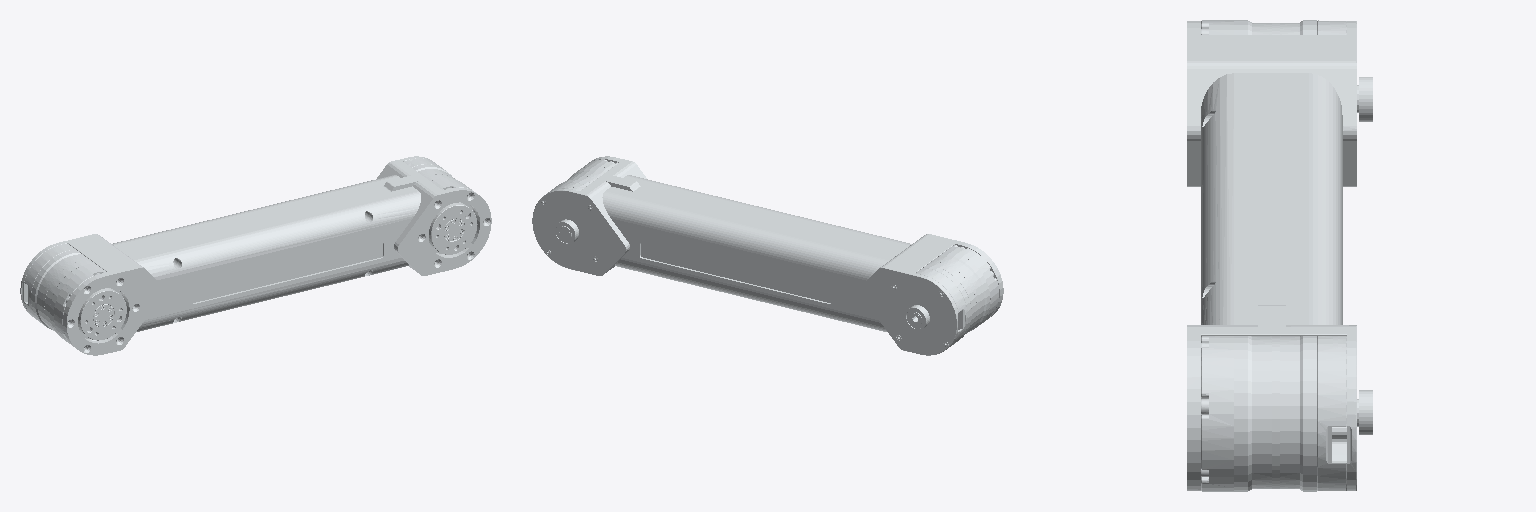
The robot description file, URDF, robot "arx5_pick_place":
<?xml version="1.0" encoding="utf-8" ?>
<!-- This URDF was automatically created by SolidWorks to URDF Exporter! Originally created by [author] ([email redacted]) 
     Commit Version: 1.6.0-4-g7f85cfe  Build Version: 1.6.7995.38578
     For more information, please see http://wiki.ros.org/sw_urdf_exporter -->
<robot name="arx5_pick_place">
    <link name="base_link">
        <visual>
            <origin xyz="0 0 0" rpy="0 0 0" />
            <geometry>
                <mesh filename="package://arx5_pick_place/meshes/base_link.STL" />
            </geometry>
            <material name="">
                <color rgba="0.752941176470588 0.752941176470588 0.752941176470588 1" />
            </material>
        </visual>
        <collision>
            <origin xyz="0 0 0" rpy="0 0 0" />
            <geometry>
                <mesh filename="package://arx5_pick_place/meshes/base_link.STL" />
            </geometry>
        </collision>
        <inertial>
            <mass value="0.1" />
            <origin xyz="0 0 0" rpy="0 0 0" />
            <inertia ixx="0.03" iyy="0.03" izz="0.03" ixy="0.0" ixz="0.0" iyz="0.0" />
        </inertial>
    </link>
    <link name="base_inertia">
        <inertial>
            <origin xyz="0 0 0" rpy="0 0 0" />
            <mass value="0.17674882311599" />
            <inertia ixx="0.000103493999037482" ixy="-1.97089585090558E-07" ixz="5.01898978490367E-07" iyy="0.000103921409006737" iyz="2.94265441271106E-07" izz="0.000140224573296344" />
        </inertial>
    </link>
    <joint name="base_link_to_base_inertia" type="fixed">
        <origin xyz="0 0 0" rpy="0 0 0" />
        <parent link="base_link" />
        <child link="base_inertia" />
        <axis xyz="0 0 0" />
    </joint>
    <link name="link1">
        <inertial>
            <origin xyz="-7.187557769489E-06 0.0165782059102838 0.00172294525616338" rpy="0 0 0" />
            <mass value="0.251301053902323" />
            <inertia ixx="7.91325386047488E-05" ixy="5.12404036084335E-09" ixz="-3.41650184041956E-07" iyy="8.23734501443829E-05" iyz="-4.40820601473179E-06" izz="0.000135414547513094" />
        </inertial>
        <visual>
            <origin xyz="0 0 0" rpy="0 0 0" />
            <geometry>
                <mesh filename="package://arx5_pick_place/meshes/link1.STL" />
            </geometry>
            <material name="">
                <color rgba="0.898039215686275 0.917647058823529 0.929411764705882 1" />
            </material>
        </visual>
        <collision>
            <origin xyz="0 0 0" rpy="0 0 0" />
            <geometry>
                <mesh filename="package://arx5_pick_place/meshes/link1.STL" />
            </geometry>
        </collision>
    </link>
    <joint name="base_link_to_link1" type="revolute">
        <origin xyz="0 0.0020536 0.054" rpy="-1.5708 0 -3.1416" />
        <parent link="base_link" />
        <child link="link1" />
        <axis xyz="0 -1 0" />
        <limit lower="-10" upper="10" effort="100" velocity="1000" />
    </joint>
    <link name="link2">
        <inertial>
            <origin xyz="0.142894605343193 0.000568905739434619 0.00106809841544814" rpy="0 0 0" />
            <mass value="0.662172012083227" />
            <inertia ixx="0.00027089986177013" ixy="2.74042029662869E-05" ixz="2.67904828281657E-05" iyy="0.00307772627892711" iyz="2.93390947157399E-07" izz="0.00330049972260227" />
        </inertial>
        <visual>
            <origin xyz="0 0 0" rpy="0 0 0" />
            <geometry>
                <mesh filename="package://arx5_pick_place/meshes/link2.STL" />
            </geometry>
            <material name="">
                <color rgba="0.898039215686275 0.917647058823529 0.929411764705882 1" />
            </material>
        </visual>
        <collision>
            <origin xyz="0 0 0" rpy="0 0 0" />
            <geometry>
                <mesh filename="package://arx5_pick_place/meshes/link2.STL" />
            </geometry>
        </collision>
    </link>
    <joint name="link1_to_link2" type="revolute">
        <origin xyz="0 0 0" rpy="0 0 0" />
        <parent link="link1" />
        <child link="link2" />
        <axis xyz="0 0 1" />
        <limit lower="-10" upper="10" effort="100" velocity="1000" />
    </joint>
    <link name="link3">
        <inertial>
            <origin xyz="0.128283038837322 -0.0676792167144319 0.040962206354862" rpy="0 0 0" />
            <mass value="0.695478239309123" />
            <inertia ixx="0.0011845491342804" ixy="0.000797605972627214" ixz="2.11213074961361E-05" iyy="0.00111653512068209" iyz="-2.1234775306484E-05" izz="0.00223079029360535" />
        </inertial>
        <visual>
            <origin xyz="0 0 0" rpy="0 0 0" />
            <geometry>
                <mesh filename="package://arx5_pick_place/meshes/link3.STL" />
            </geometry>
            <material name="">
                <color rgba="0.898039215686275 0.917647058823529 0.929411764705882 1" />
            </material>
        </visual>
        <collision>
            <origin xyz="0 0 0" rpy="0 0 0" />
            <geometry>
                <mesh filename="package://arx5_pick_place/meshes/link3.STL" />
            </geometry>
        </collision>
    </link>
    <joint name="link2_to_link3" type="revolute">
        <origin xyz="0.27 0 -0.038" rpy="0 0 -2.2689" />
        <parent link="link2" />
        <child link="link3" />
        <axis xyz="0 0 1" />
        <limit lower="-10" upper="10" effort="100" velocity="1000" />
    </joint>
    <link name="link4">
        <inertial>
            <origin xyz="0.0594442823037235 -0.00310931628776626 0.036094876039025" rpy="0 0 0" />
            <mass value="0.129904373613862" />
            <inertia ixx="5.4462106942221E-05" ixy="2.7006585885406E-06" ixz="7.6179363572429E-06" iyy="8.3361264921361E-05" iyz="-2.69872270472835E-06" izz="5.7035653800595E-05" />
        </inertial>
        <visual>
            <origin xyz="0 0 0" rpy="0 0 0" />
            <geometry>
                <mesh filename="package://arx5_pick_place/meshes/link4.STL" />
            </geometry>
            <material name="">
                <color rgba="0.752941176470588 0.752941176470588 0.752941176470588 1" />
            </material>
        </visual>
        <collision>
            <origin xyz="0 0 0" rpy="0 0 0" />
            <geometry>
                <mesh filename="package://arx5_pick_place/meshes/link4.STL" />
            </geometry>
        </collision>
    </link>
    <joint name="link3_to_link4" type="revolute">
        <origin xyz="0.21952 -0.16826 0.0095" rpy="0 0 -0.87266" />
        <parent link="link3" />
        <child link="link4" />
        <axis xyz="0 0 1" />
        <limit lower="-10" upper="10" effort="100" velocity="1000" />
    </joint>
    <link name="link5">
        <inertial>
            <origin xyz="0.061063404120499 -7.99707784818705E-05 0.0354635052951228" rpy="0 0 0" />
            <mass value="0.187798131620403" />
            <inertia ixx="0.000141743924412977" ixy="2.94250053826079E-07" ixz="-5.01887861559548E-07" iyy="0.000107049377452692" iyz="1.97065336145565E-07" izz="0.000108099510218241" />
        </inertial>
        <visual>
            <origin xyz="0 0 0" rpy="0 0 0" />
            <geometry>
                <mesh filename="package://arx5_pick_place/meshes/link5.STL" />
            </geometry>
            <material name="">
                <color rgba="0.898039215686275 0.917647058823529 0.929411764705882 1" />
            </material>
        </visual>
        <collision>
            <origin xyz="0 0 0" rpy="0 0 0" />
            <geometry>
                <mesh filename="package://arx5_pick_place/meshes/link5.STL" />
            </geometry>
        </collision>
    </link>
    <joint name="link4_to_link5" type="revolute">
        <origin xyz="0.067 0.0365 0.029554" rpy="1.5708 0 0" />
        <parent link="link4" />
        <child link="link5" />
        <axis xyz="0 0 1" />
        <limit lower="-10" upper="10" effort="100" velocity="1000" />
    </joint>
    <link name="gripper_link1">
        <inertial>
            <origin xyz="0.000329594196088357 0.0140901516497374 0.0466648779317439" rpy="0 0 0" />
            <mass value="0.220819041507617" />
            <inertia ixx="0.000126652588006773" ixy="1.4993273928707E-07" ixz="-1.87237836327654E-08" iyy="0.000194189457482434" iyz="2.63407391140089E-05" izz="0.000133550718655737" />
        </inertial>
        <visual>
            <origin xyz="0 0 0" rpy="0 0 0" />
            <geometry>
                <mesh filename="package://arx5_pick_place/meshes/Gripper.STL" />
            </geometry>
            <material name="">
                <color rgba="0.752941176470588 0.752941176470588 0.752941176470588 1" />
            </material>
        </visual>
        <collision>
            <origin xyz="0 0 0" rpy="0 0 0" />
            <geometry>
                <mesh filename="package://arx5_pick_place/meshes/Gripper.STL" />
            </geometry>
        </collision>
    </link>
    <joint name="link5_to_gripper_link1" type="revolute">
        <origin xyz="0.0914 0 0.0335" rpy="-1.5708 0 -1.5708" />
        <parent link="link5" />
        <child link="gripper_link1" />
        <axis xyz="0 0 1" />
        <limit lower="-10" upper="10" effort="100" velocity="1000" />
    </joint>
    <link name="gripper_link2">
        <inertial>
            <origin xyz="0.013772447524502 0.0112440277698627 -0.0214943948727623" rpy="0 0 0" />
            <mass value="0.076638980150099" />
            <inertia ixx="5.03825387542364E-05" ixy="3.75477881040601E-07" ixz="9.93180599781238E-07" iyy="0.000105633489777571" iyz="1.33064249411068E-06" izz="6.22728912797292E-05" />
        </inertial>
        <visual>
            <origin xyz="0 0 0" rpy="0 0 0" />
            <geometry>
                <mesh filename="package://arx5_pick_place/meshes/Gripper_down.STL" />
            </geometry>
            <material name="">
                <color rgba="1 1 1 1" />
            </material>
        </visual>
        <collision>
            <origin xyz="0 0 0" rpy="0 0 0" />
            <geometry>
                <mesh filename="package://arx5_pick_place/meshes/Gripper_down.STL" />
            </geometry>
        </collision>
    </link>
    <joint name="gripper_link1_to_gripper_link2" type="revolute">
        <origin xyz="0.022574 -0.01 0.0385" rpy="0 -1.5708 3.1415" />
        <parent link="gripper_link1" />
        <child link="gripper_link2" />
        <axis xyz="0 0 1" />
        <limit lower="-10" upper="10" effort="100" velocity="1000" />
    </joint>
    <transmission name="trans_base_link_to_link1">
        <type>transmission_interface/SimpleTransmission</type>
        <joint name="base_link_to_link1">
            <hardwareInterface>hardware_interface/PositionJointInterface</hardwareInterface>
        </joint>
        <actuator name="base_link_to_link1_motor">
            <hardwareInterface>hardware_interface/PositionJointInterface</hardwareInterface>
            <mechanicalReduction>1</mechanicalReduction>
        </actuator>
    </transmission>
    <transmission name="trans_link1_to_link2">
        <type>transmission_interface/SimpleTransmission</type>
        <joint name="link1_to_link2">
            <hardwareInterface>hardware_interface/PositionJointInterface</hardwareInterface>
        </joint>
        <actuator name="link1_to_link2_motor">
            <hardwareInterface>hardware_interface/PositionJointInterface</hardwareInterface>
            <mechanicalReduction>1</mechanicalReduction>
        </actuator>
    </transmission>
    <transmission name="trans_link2_to_link3">
        <type>transmission_interface/SimpleTransmission</type>
        <joint name="link2_to_link3">
            <hardwareInterface>hardware_interface/PositionJointInterface</hardwareInterface>
        </joint>
        <actuator name="link2_to_link3_motor">
            <hardwareInterface>hardware_interface/PositionJointInterface</hardwareInterface>
            <mechanicalReduction>1</mechanicalReduction>
        </actuator>
    </transmission>
    <transmission name="trans_link3_to_link4">
        <type>transmission_interface/SimpleTransmission</type>
        <joint name="link3_to_link4">
            <hardwareInterface>hardware_interface/PositionJointInterface</hardwareInterface>
        </joint>
        <actuator name="link3_to_link4_motor">
            <hardwareInterface>hardware_interface/PositionJointInterface</hardwareInterface>
            <mechanicalReduction>1</mechanicalReduction>
        </actuator>
    </transmission>
    <transmission name="trans_link4_to_link5">
        <type>transmission_interface/SimpleTransmission</type>
        <joint name="link4_to_link5">
            <hardwareInterface>hardware_interface/PositionJointInterface</hardwareInterface>
        </joint>
        <actuator name="link4_to_link5_motor">
            <hardwareInterface>hardware_interface/PositionJointInterface</hardwareInterface>
            <mechanicalReduction>1</mechanicalReduction>
        </actuator>
    </transmission>
    <transmission name="trans_link5_to_gripper_link1">
        <type>transmission_interface/SimpleTransmission</type>
        <joint name="link5_to_gripper_link1">
            <hardwareInterface>hardware_interface/PositionJointInterface</hardwareInterface>
        </joint>
        <actuator name="link5_to_gripper_link1_motor">
            <hardwareInterface>hardware_interface/PositionJointInterface</hardwareInterface>
            <mechanicalReduction>1</mechanicalReduction>
        </actuator>
    </transmission>
    <transmission name="trans_gripper_link1_to_gripper_link2">
        <type>transmission_interface/SimpleTransmission</type>
        <joint name="gripper_link1_to_gripper_link2">
            <hardwareInterface>hardware_interface/EffortJointInterface</hardwareInterface>
        </joint>
        <actuator name="gripper_link1_to_gripper_link2_motor">
            <hardwareInterface>hardware_interface/EffortJointInterface</hardwareInterface>
            <mechanicalReduction>1</mechanicalReduction>
        </actuator>
    </transmission>
    <gazebo>
        <plugin name="gazebo_ros_control">
            <robotNamespace>/</robotNamespace>
        </plugin>
    </gazebo>
</robot>

--- What the picture shows (computed from the rendered views, not written in the file) ---
The picture shows the robot from 3 angles, left to right: view 1: azimuth 30°, elevation 25°; view 2: azimuth 150°, elevation 25°; view 3: azimuth 270°, elevation 25°; orthographic projection.
Robot: arx5_pick_place — 9 links, 8 joints (7 revolute, 1 fixed); root link base_link; default pose: every joint at zero.
Links seen in each view (by area): view 1: link2; view 2: link2; view 3: link2.
Boxes of the visible links, x1,y1,x2,y2 form: link2: [20, 156, 491, 355]; link2: [532, 156, 1003, 355]; link2: [1187, 20, 1372, 491].
Size in the robot's own frame: 0.32 by 0.0665 by 0.056 metres.
1 mesh visuals loaded from 8 distinct referenced files (1 binary STL); not drawn: 7 (reference not matched to a file when rendering).